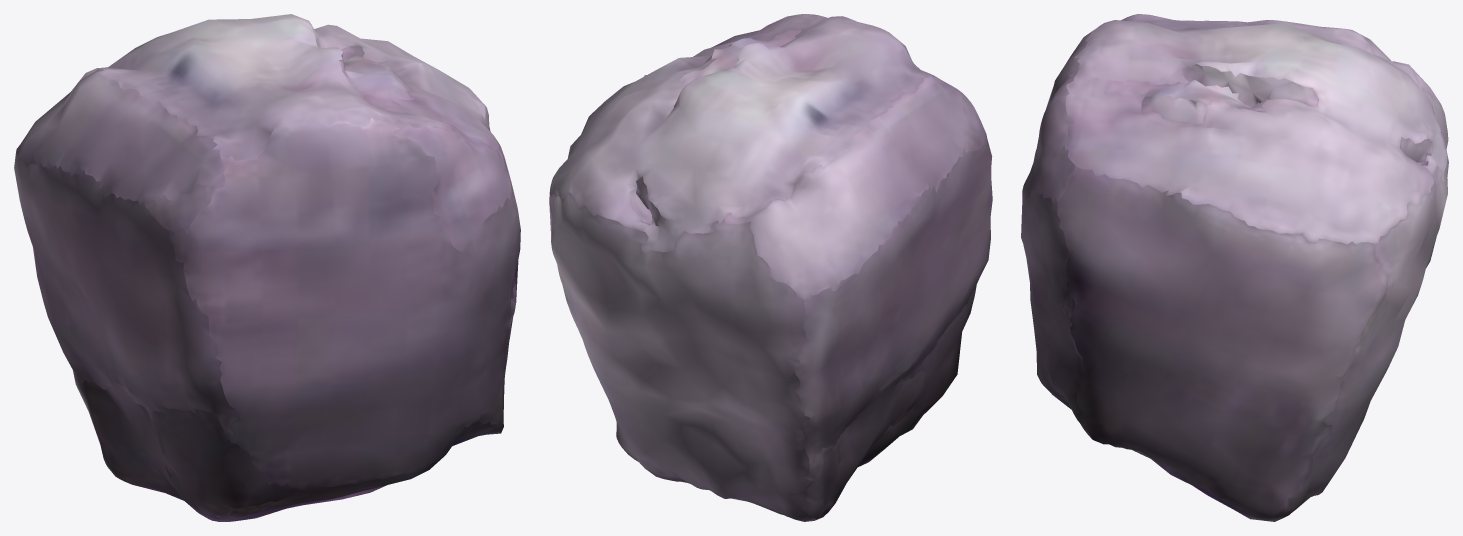
File: 1_plastic_bag.glb
The picture shows the model from 3 angles, left to right: view 1: azimuth 30°, elevation 25°; view 2: azimuth 150°, elevation 25°; view 3: azimuth 270°, elevation 25°; orthographic projection. The views are drawn at different scales.
Visible parts, largest first — view 1: 1_plastic_bag; view 2: 1_plastic_bag; view 3: 1_plastic_bag.
Boxes of the visible parts, bbox=[...] form: 1_plastic_bag: bbox=[14, 14, 520, 521]; 1_plastic_bag: bbox=[549, 14, 992, 521]; 1_plastic_bag: bbox=[1021, 14, 1448, 521].
Size of the model in its own units: 0.3249 by 0.3747 by 0.3436.
Materials: 1 (1 with a texture image).
